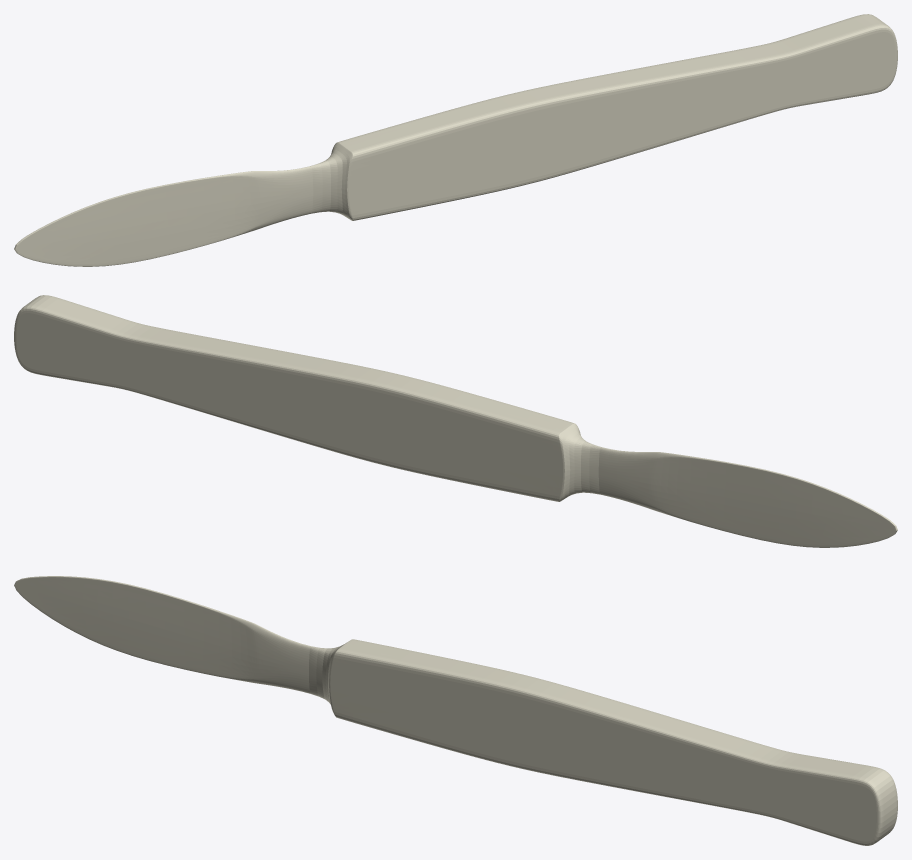
The model's file is Scalpel.dae.
The picture shows the model from 3 angles, top to bottom: view 1: azimuth 30°, elevation 25°; view 2: azimuth 150°, elevation 25°; view 3: azimuth 330°, elevation 25°; orthographic projection.
Visible parts, largest first — view 1: node; view 2: node; view 3: node.
Boxes of the visible parts, <box> form: node: <box>14,14,897,266</box>; node: <box>14,295,897,547</box>; node: <box>14,576,897,845</box>.
Bounding box in the file's own units: 14.72 × 1.3 × 0.5362.
1 material, 1 textured.
